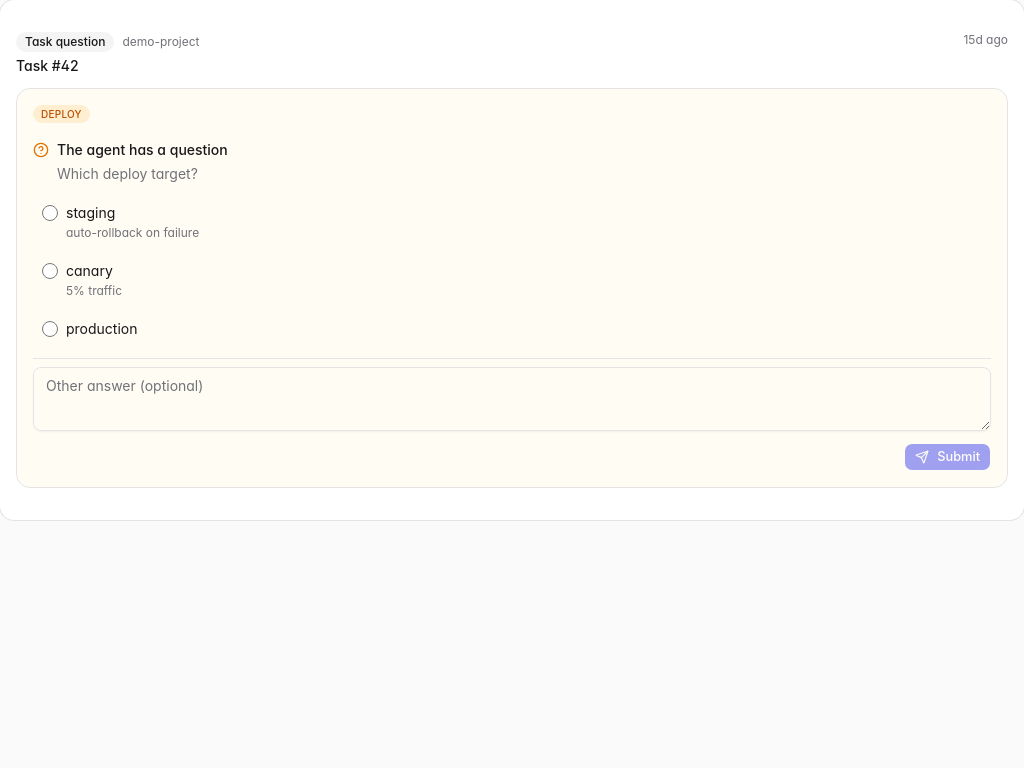
AttentionRow — task/chat question dispatch › failed_POST_re_enables_Send_and_shows_error: 500 keeps the row mounted, error visible, button re-enabled
Click the radio button with test id "agent-question-option-1" at (50, 271), box [42,263,58,279]
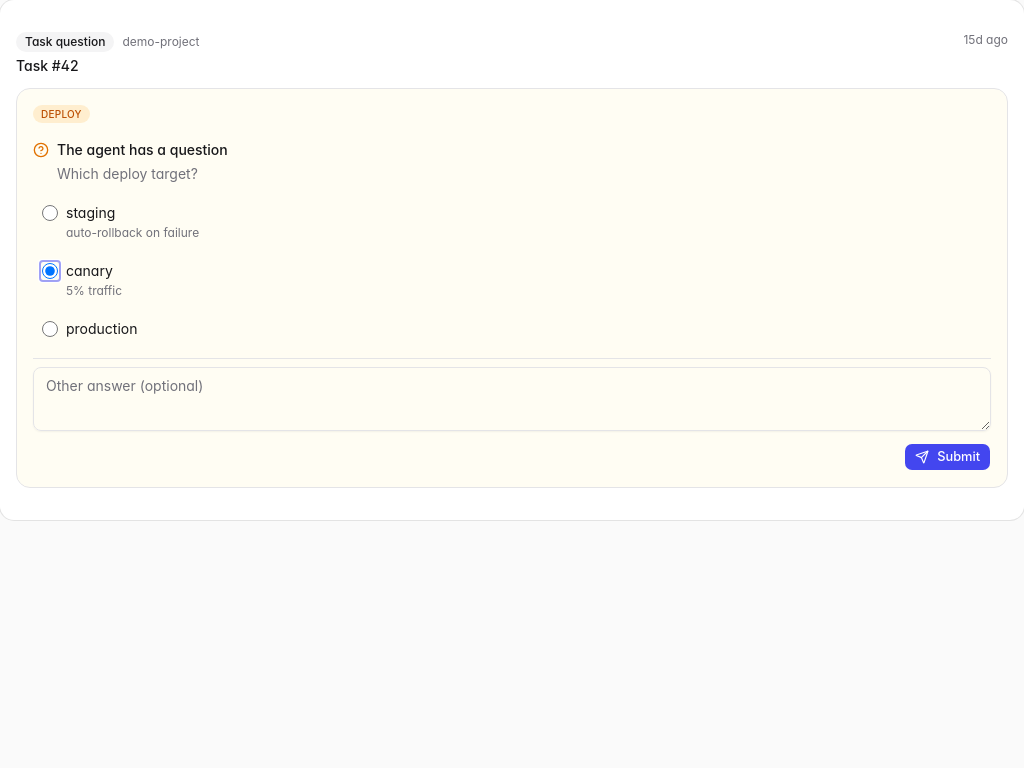
Click the button with test id "agent-question-send" at (948, 457), box [904,443,991,471]
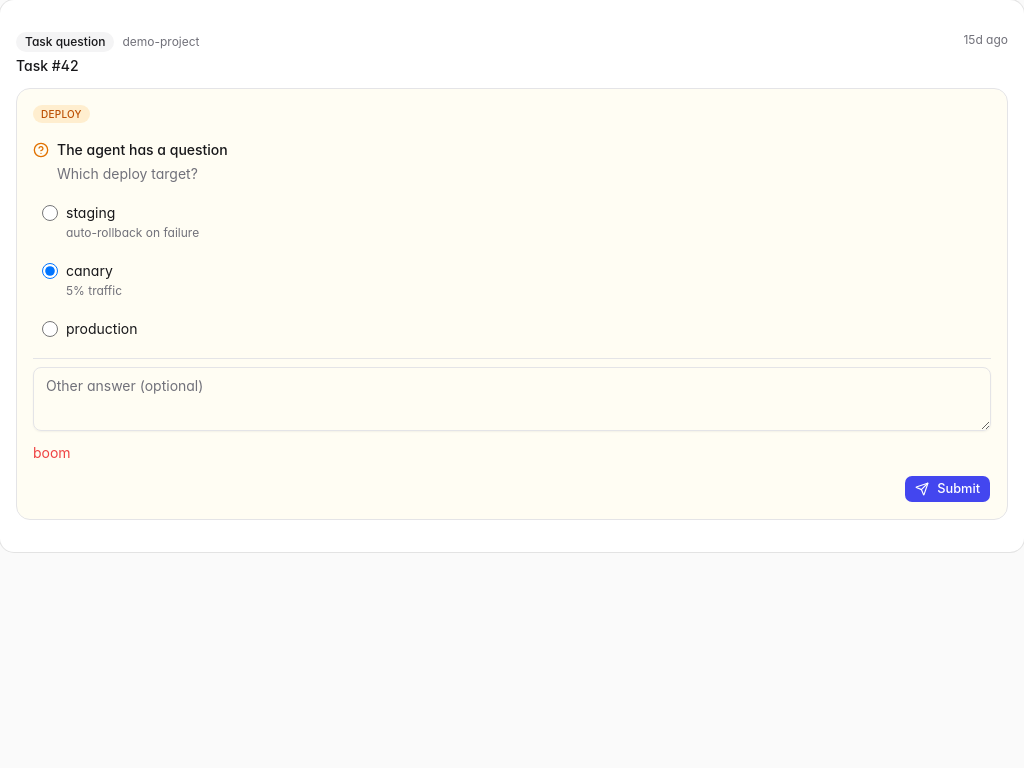
Expected: the text "Which deploy target?" is shown, [57,165,198,182]
Expected: the button with test id "agent-question-send" is enabled, [904,475,991,503]
Expected: the message reads "boom", [33,444,71,461]
